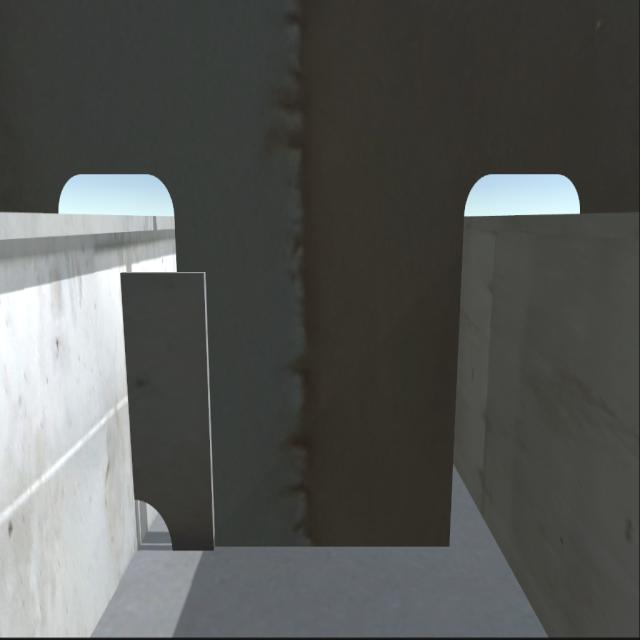fillet_hole: (138, 498, 173, 546)
fillet_yong_jeop_jang: (166, 525, 448, 562)
longi_yong_jeop_jang: (120, 266, 141, 498)
plate_CP01: (126, 274, 215, 548)
